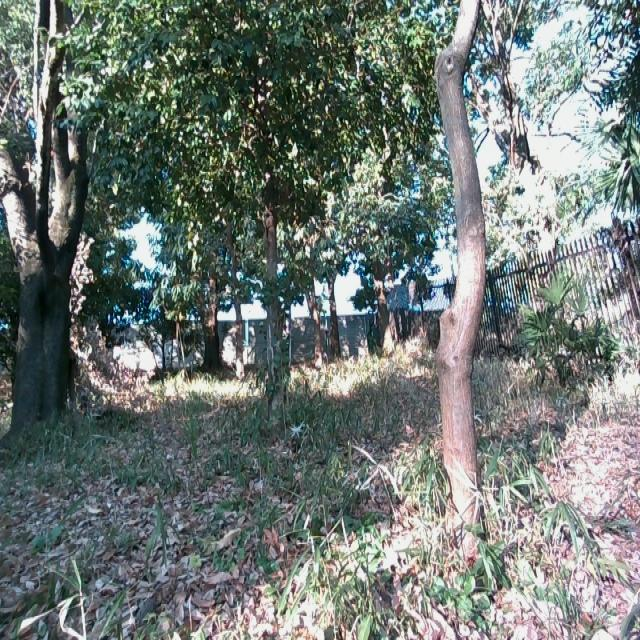artifact: (410, 223, 640, 349), (91, 312, 437, 372)
bush: (520, 278, 615, 399)
tree: (403, 0, 500, 547), (0, 0, 120, 442), (187, 267, 231, 374)
